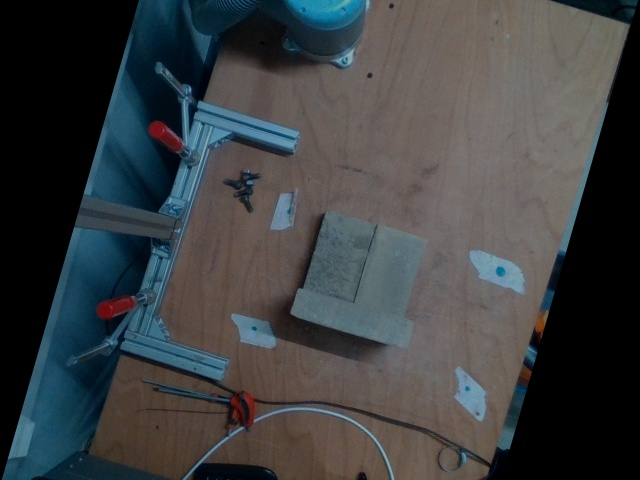brick-side: (291, 288, 415, 350)
